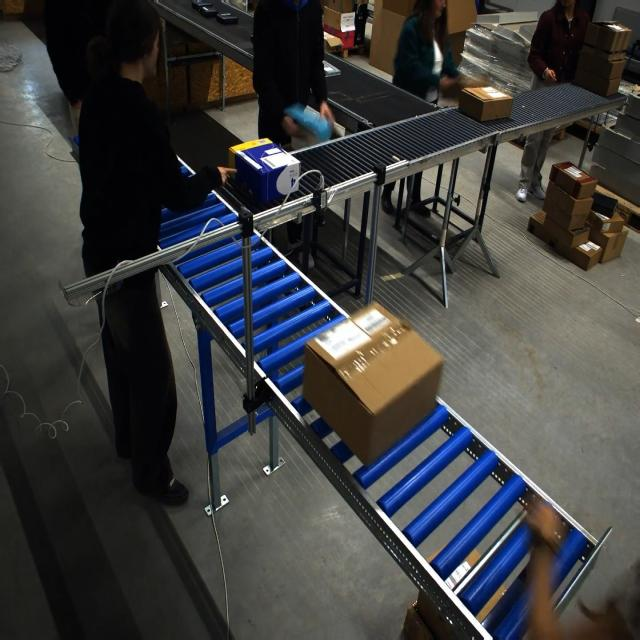box: (317, 310, 434, 447), (233, 139, 298, 204), (458, 85, 514, 123), (286, 102, 335, 145)
product: (199, 4, 218, 17), (216, 13, 238, 24), (191, 0, 211, 11)
